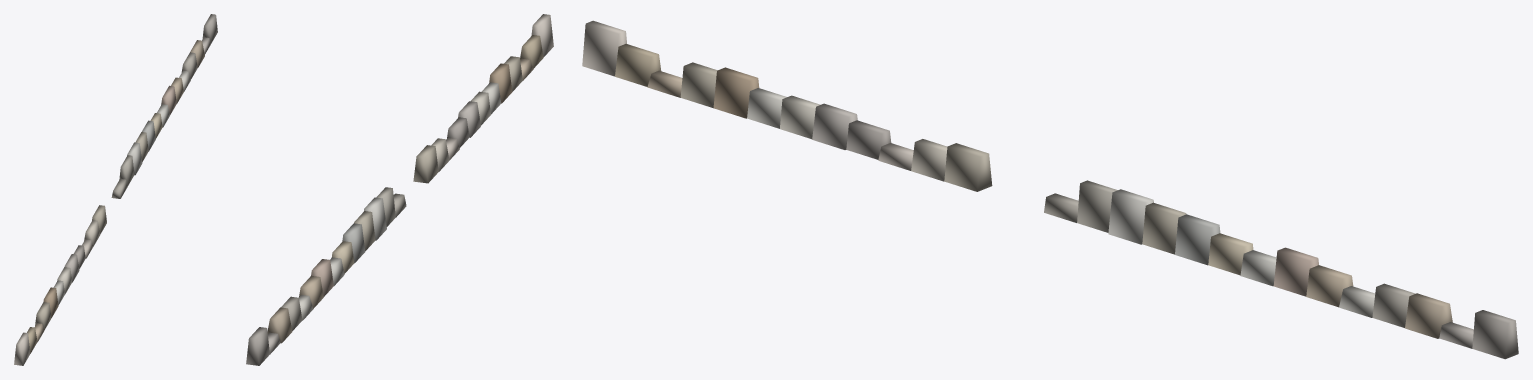
File: farm_-37_-28_collision.glb
The picture shows the model from 3 angles, left to right: view 1: azimuth 30°, elevation 25°; view 2: azimuth 210°, elevation 25°; view 3: azimuth 270°, elevation 25°; orthographic projection. The views are drawn at different scales.
Visible parts, largest first — view 1: geometry_0; view 2: geometry_0; view 3: geometry_0.
Boxes of the visible parts, left/top/right/bottom form: geometry_0: left=14, top=14, right=217, bottom=365; geometry_0: left=246, top=14, right=553, bottom=365; geometry_0: left=582, top=20, right=1518, bottom=359.
Bounding box in the file's own units: 32.28 × 5.61 × 30.36.
